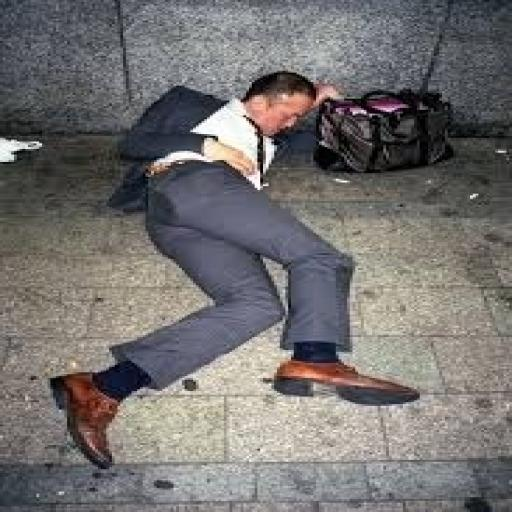sleeping: (45, 67, 425, 469)
